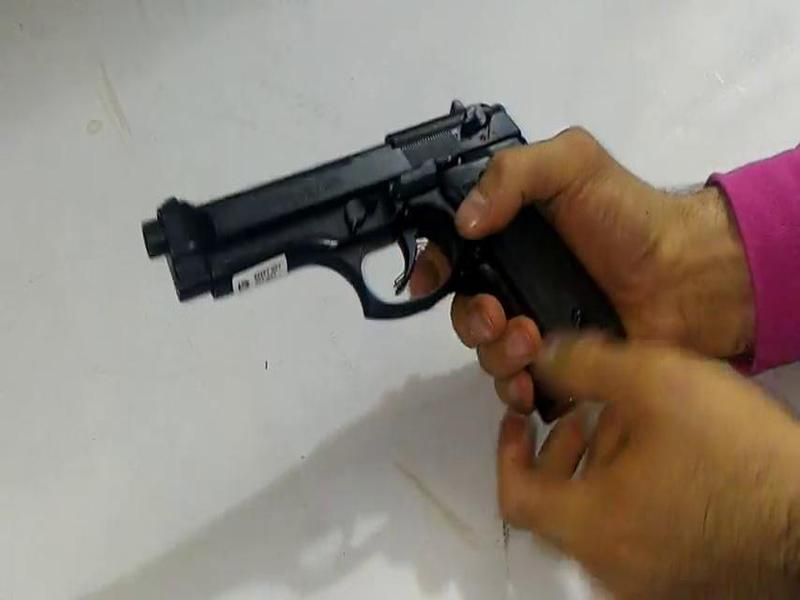Pistola: (119, 88, 671, 428)
